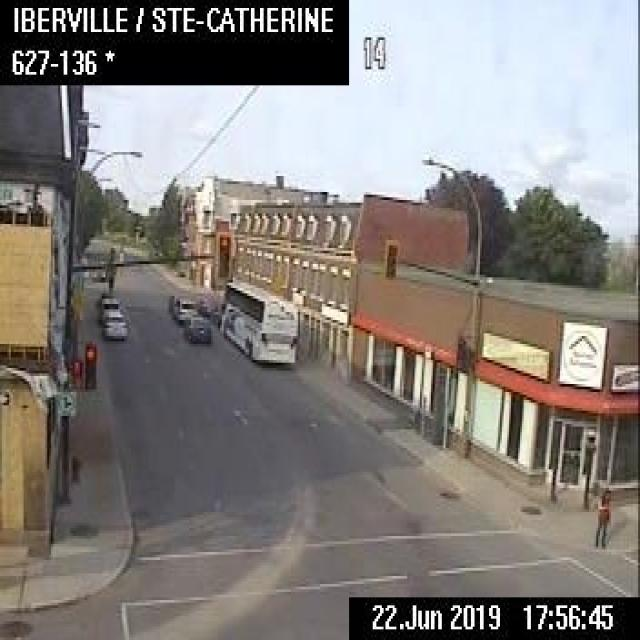bus: (218, 279, 297, 362)
pedestrian: (592, 484, 610, 546)
vehicle: (182, 313, 210, 342), (102, 311, 127, 340), (172, 294, 195, 320), (98, 295, 118, 323), (193, 289, 215, 313), (167, 291, 185, 312), (209, 300, 223, 324)
